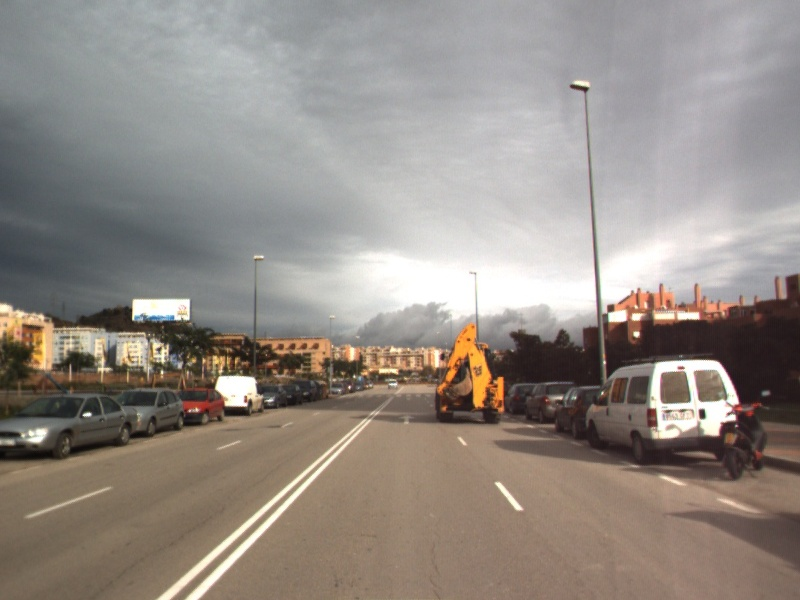STRAIGHT: (397, 413, 417, 426)
